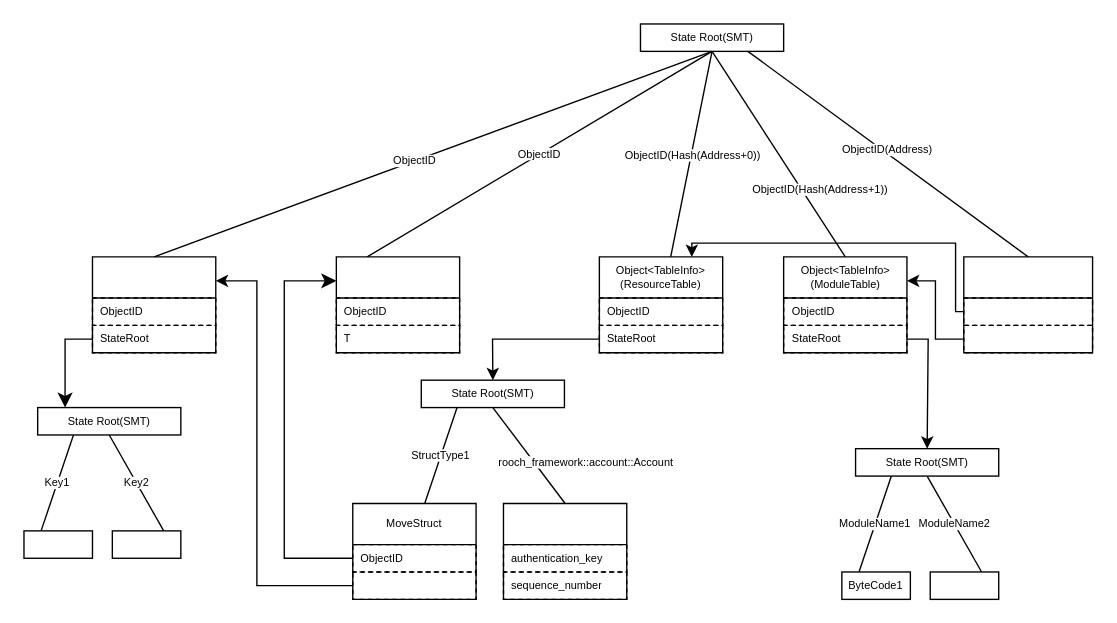
This 1117x623 diagram has some shape labels left out. The box of each missing label's shape, as (x1, y1, x2, y2) in pixels:
Account: (502, 502, 627, 599)
ByteCode2: (929, 571, 999, 599)
Modules: (962, 324, 1093, 353)
Object<AccountStorage>: (962, 256, 1093, 353)
Object<T>: (335, 256, 460, 353)
Object<TableInfo>: (91, 256, 216, 353)
Resources: (962, 297, 1093, 325)
TableRef: (351, 571, 476, 599)
Value1: (23, 530, 92, 558)
Value2: (111, 530, 181, 558)
